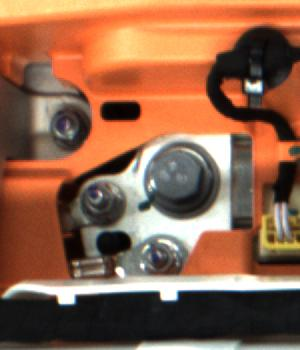nut_b: (138, 135, 224, 225)
screw_s: (134, 233, 178, 275), (79, 178, 117, 217), (44, 107, 81, 139)
